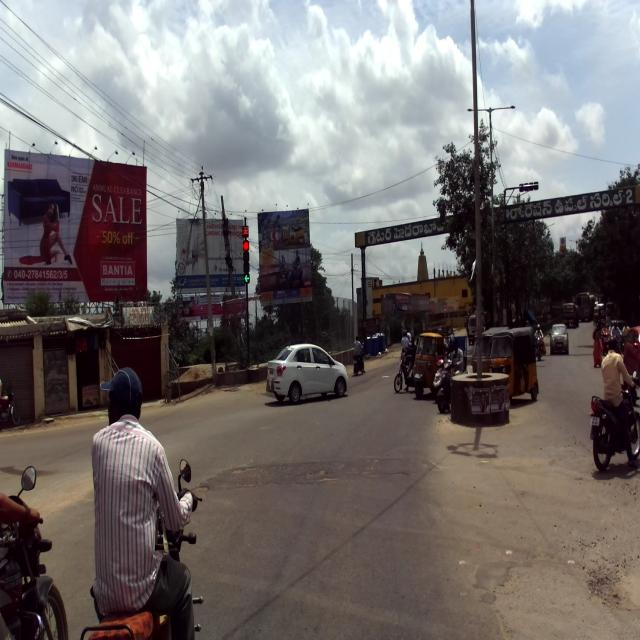Car_Maruti-Suzuki: (265, 340, 349, 404)
autorickshaw: (412, 324, 468, 399), (490, 325, 540, 401)
motorcycle_Hero: (0, 463, 69, 640), (589, 370, 640, 472)
motorcycle_TVS: (79, 457, 204, 639)
scooter: (435, 352, 469, 414)
